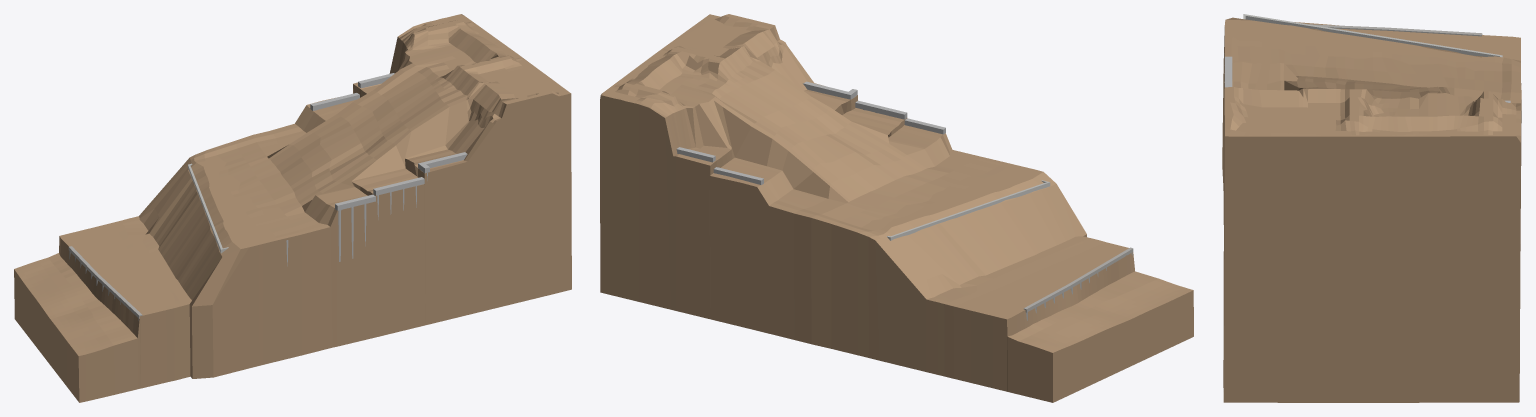
The model's file is cb1_spw2_3.glb.
3 views of the same model, side by side, from view 1: azimuth 30°, elevation 25°; view 2: azimuth 150°, elevation 25°; view 3: azimuth 270°, elevation 25° (orthographic). The views are drawn at different scales.
Parts seen in each view (by area): view 1: Terrain 07 - SPW2+3.002, Cube.069; view 2: Terrain 07 - SPW2+3.002, RTW1.002, Cube.069; view 3: Terrain 07 - SPW2+3.002, RTW1.002, Cube.069.
Boxes of the visible parts, <box> form: Terrain 07 - SPW2+3.002: <box>14,14,571,402</box>; Cube.069: <box>68,246,142,318</box>; Terrain 07 - SPW2+3.002: <box>600,14,1193,402</box>; RTW1.002: <box>887,180,1050,240</box>; Cube.069: <box>1023,247,1133,312</box>; Terrain 07 - SPW2+3.002: <box>1222,17,1521,402</box>; RTW1.002: <box>1243,14,1502,57</box>; Cube.069: <box>1309,24,1482,36</box>.
Bounding box in the file's own units: 45.82 × 18.06 × 17.99.
